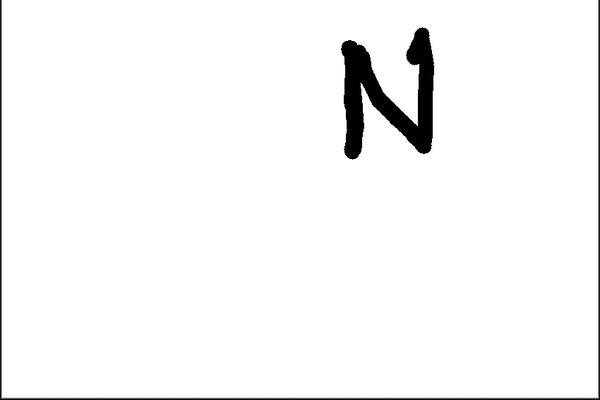N: (330, 21, 441, 168)
